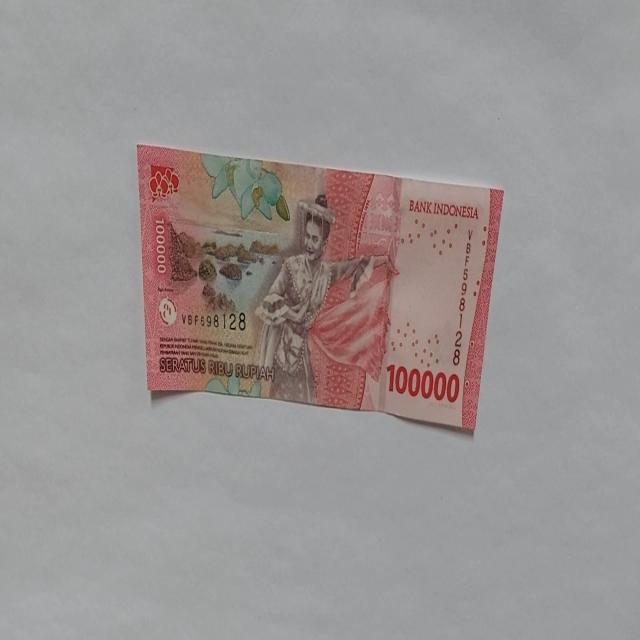seratus ribu rupiah: (136, 143, 504, 436), (252, 192, 376, 404)
